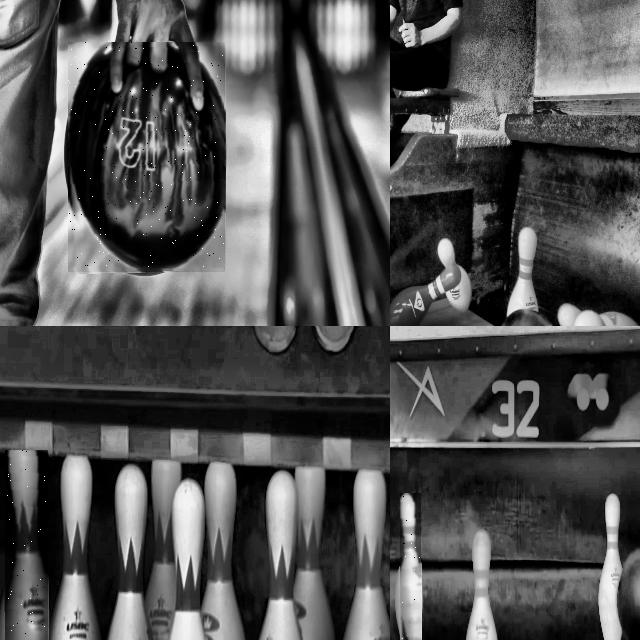bowling-ball: (68, 43, 224, 270), (617, 549, 640, 640)
bowling-pins: (49, 454, 101, 640), (106, 464, 152, 640), (5, 451, 47, 640), (202, 461, 246, 640), (345, 469, 390, 640), (259, 470, 302, 640), (295, 467, 335, 640), (146, 459, 182, 640), (168, 479, 207, 640), (467, 529, 497, 640), (600, 493, 622, 640), (401, 494, 420, 640)
